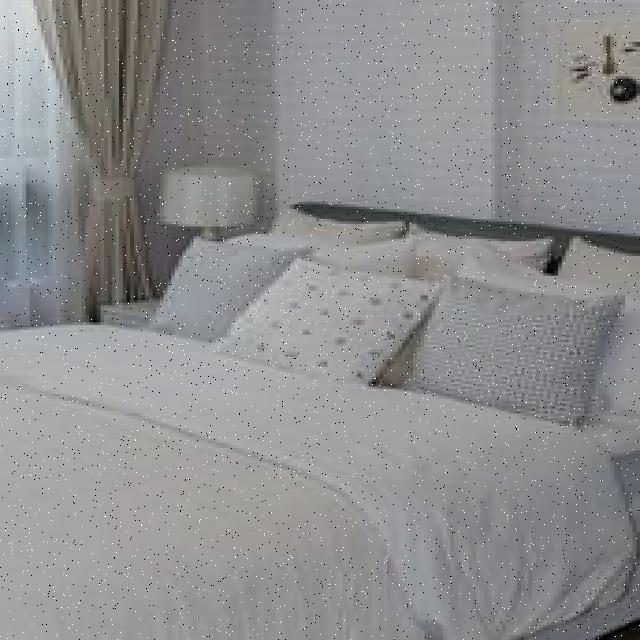bed: (0, 207, 629, 640)
